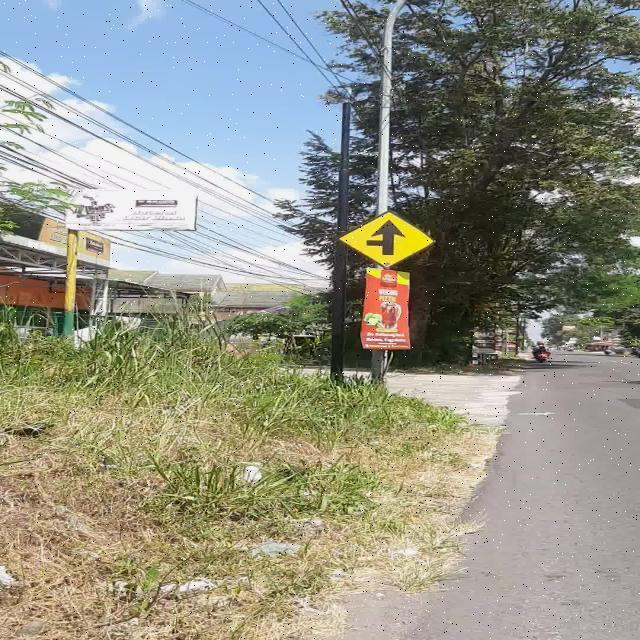Persimpangan 3 Prioritas Kiri: (338, 210, 436, 269)
